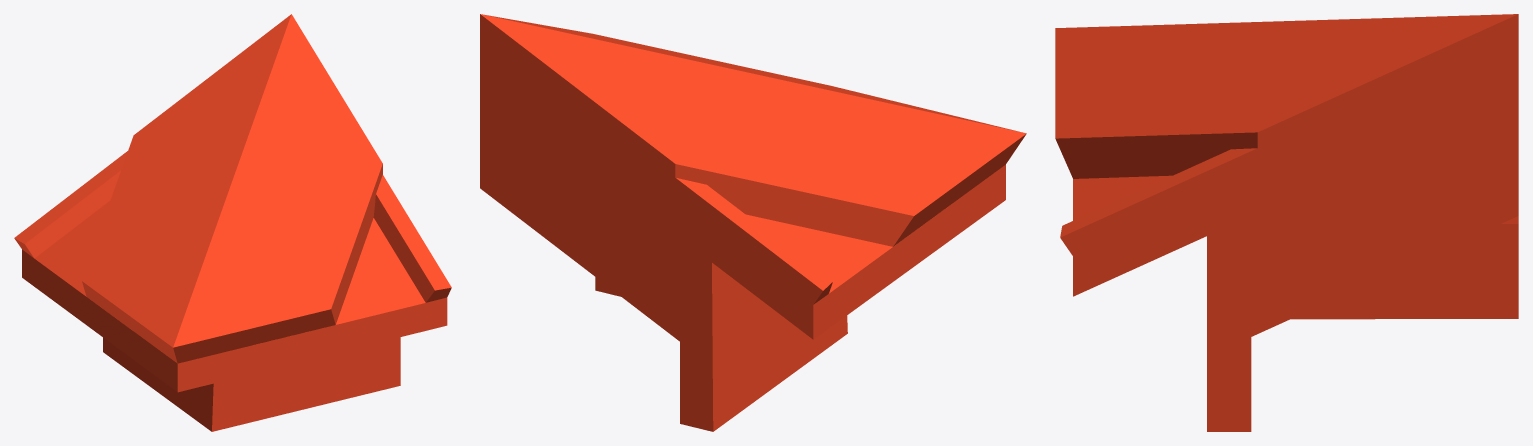
The model's file is roof-metal-moderate-edge-corner-a.fbx.
The picture shows the model from 3 angles, left to right: view 1: azimuth 30°, elevation 25°; view 2: azimuth 150°, elevation 25°; view 3: azimuth 270°, elevation 25°; orthographic projection. The views are drawn at different scales.
Parts seen in each view (by area): view 1: roof-metal-moderate-edge-corner-a; view 2: roof-metal-moderate-edge-corner-a; view 3: roof-metal-moderate-edge-corner-a.
Part boxes in pixels (x1,y1,x2,y2): roof-metal-moderate-edge-corner-a: [14, 14, 451, 431]; roof-metal-moderate-edge-corner-a: [480, 14, 1026, 431]; roof-metal-moderate-edge-corner-a: [1055, 14, 1518, 431].
Bounding box in the file's own units: 0.52 × 0.5178 × 0.52.
